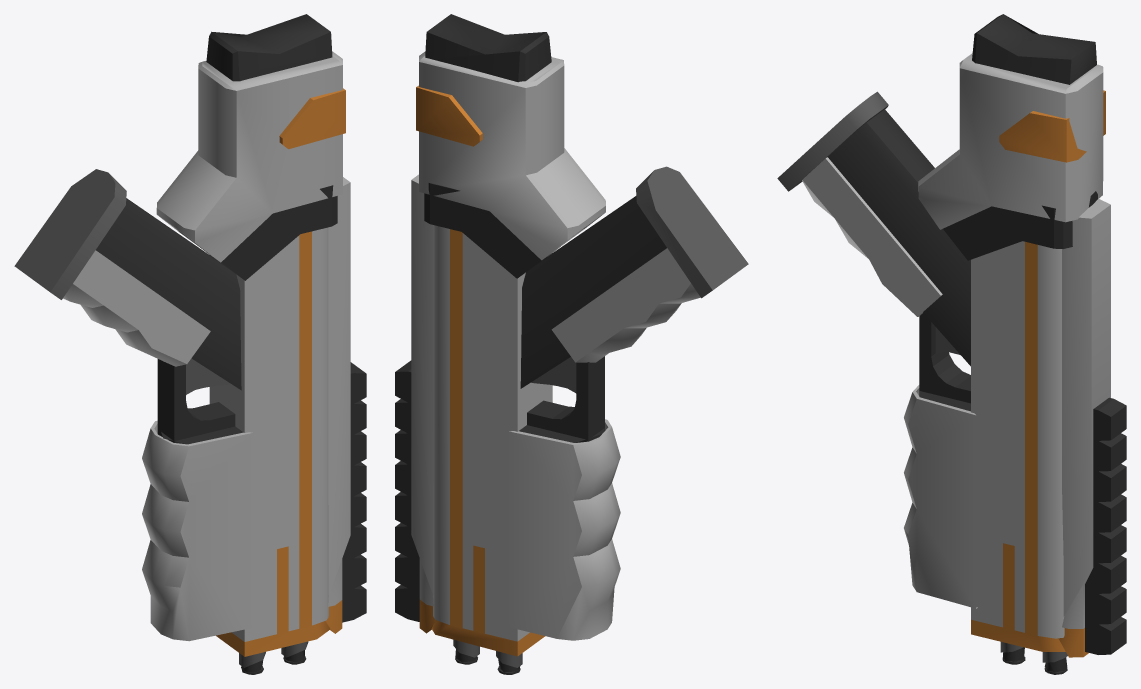
File: qg-pistol-3-lod2.glb
The picture shows the model from 3 angles, left to right: view 1: azimuth 30°, elevation 25°; view 2: azimuth 150°, elevation 25°; view 3: azimuth 330°, elevation 25°; orthographic projection.
Parts seen in each view (by area): view 1: WeaponMesh_qg-pistol-3_Pistol_3; view 2: WeaponMesh_qg-pistol-3_Pistol_3; view 3: WeaponMesh_qg-pistol-3_Pistol_3.
Part boxes in pixels (x1,y1,x2,y2): WeaponMesh_qg-pistol-3_Pistol_3: (14,14,366,674); WeaponMesh_qg-pistol-3_Pistol_3: (395,14,748,674); WeaponMesh_qg-pistol-3_Pistol_3: (777,14,1126,674).
Bounding box in the file's own units: 0.3316 × 0.6156 × 0.0777.
